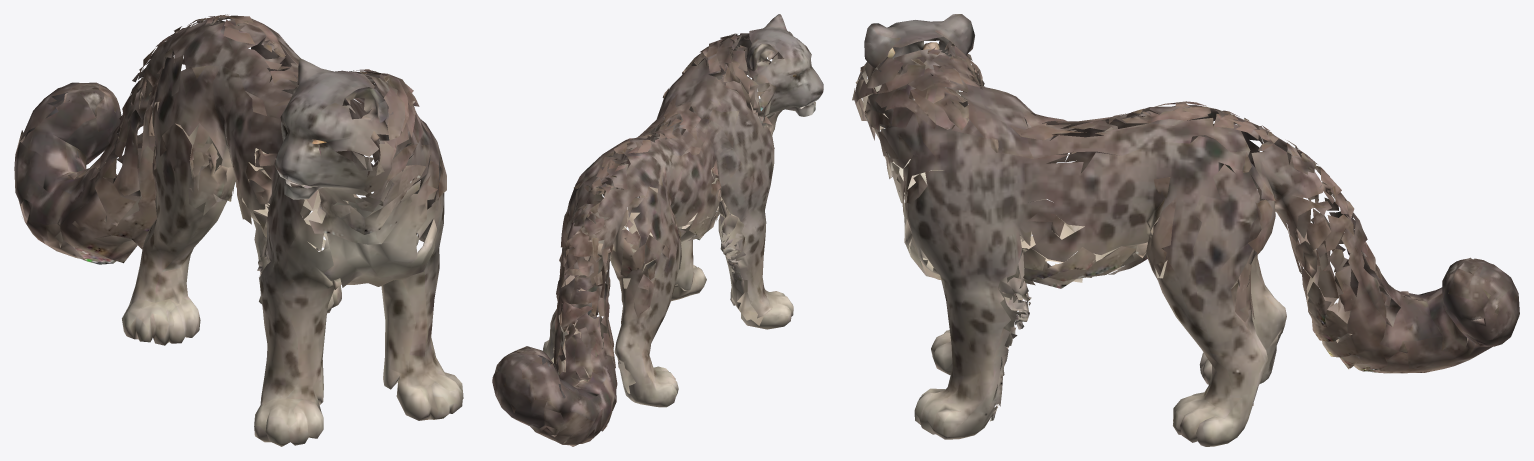
Rendered from snow-leopard.phone.glb.
The picture shows the model from 3 angles, left to right: view 1: azimuth 30°, elevation 25°; view 2: azimuth 150°, elevation 25°; view 3: azimuth 270°, elevation 25°; orthographic projection. The views are drawn at different scales.
Visible parts, largest first — view 1: snow-leopard.raw; view 2: snow-leopard.raw; view 3: snow-leopard.raw.
Part boxes in pixels (x1=…): snow-leopard.raw: x1=14, y1=14, x2=463, y2=446; snow-leopard.raw: x1=492, y1=14, x2=823, y2=446; snow-leopard.raw: x1=852, y1=14, x2=1519, y2=446.
Size of the model in its own units: 0.483 by 0.8 by 1.33.
Materials: 1 (1 with a texture image).
